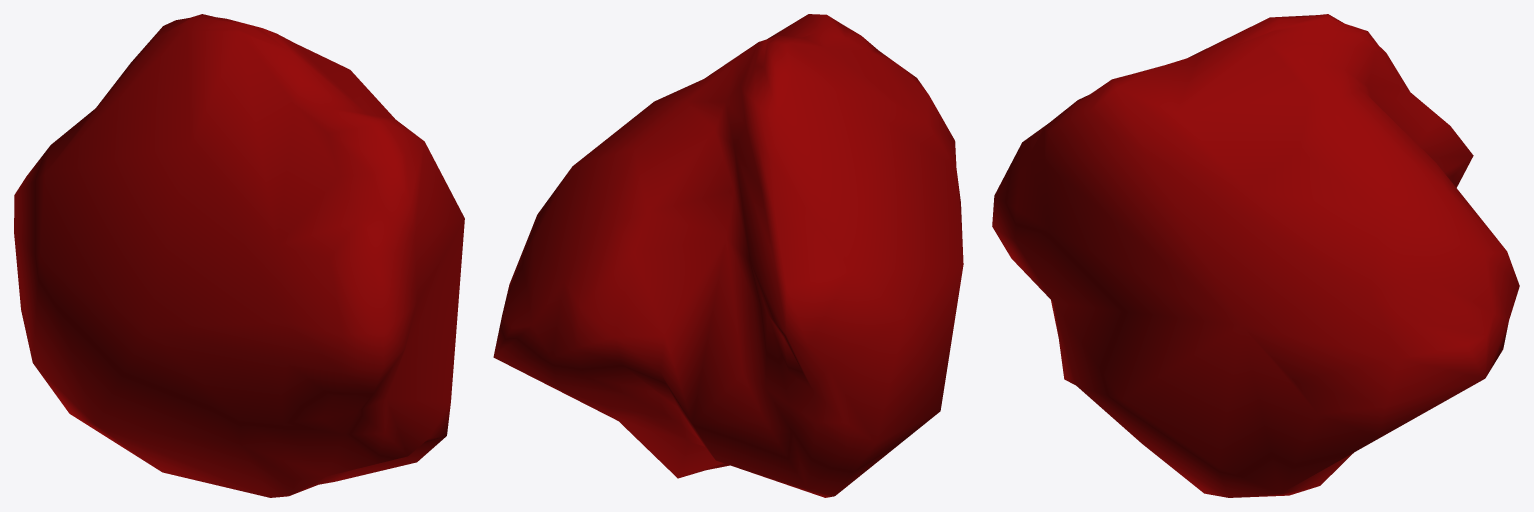
File: Asteroid2.FBX
The picture shows the model from 3 angles, left to right: view 1: azimuth 30°, elevation 25°; view 2: azimuth 150°, elevation 25°; view 3: azimuth 270°, elevation 25°; orthographic projection. The views are drawn at different scales.
Parts seen in each view (by area): view 1: Sphere03; view 2: Sphere03; view 3: Sphere03.
Boxes of the visible parts, left/top/right/bottom form: Sphere03: left=14, top=14, right=464, bottom=497; Sphere03: left=493, top=14, right=963, bottom=497; Sphere03: left=992, top=14, right=1519, bottom=497.
Bounding box in the file's own units: 615 × 706 × 773.
